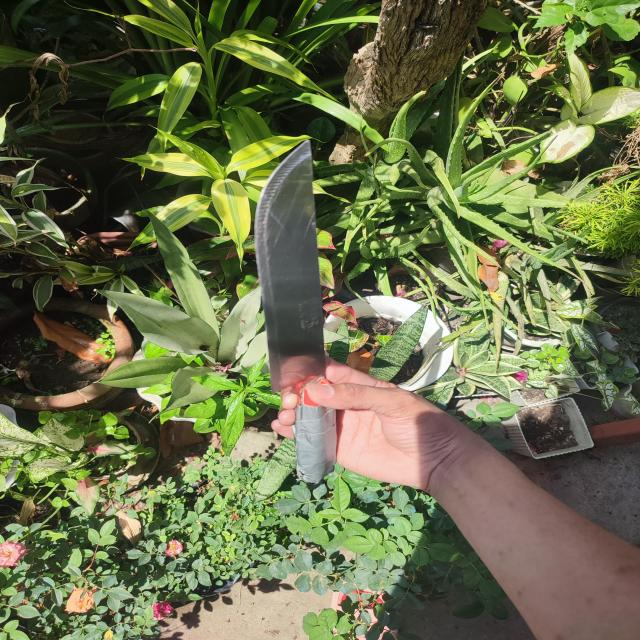knife: (255, 140, 340, 488)
